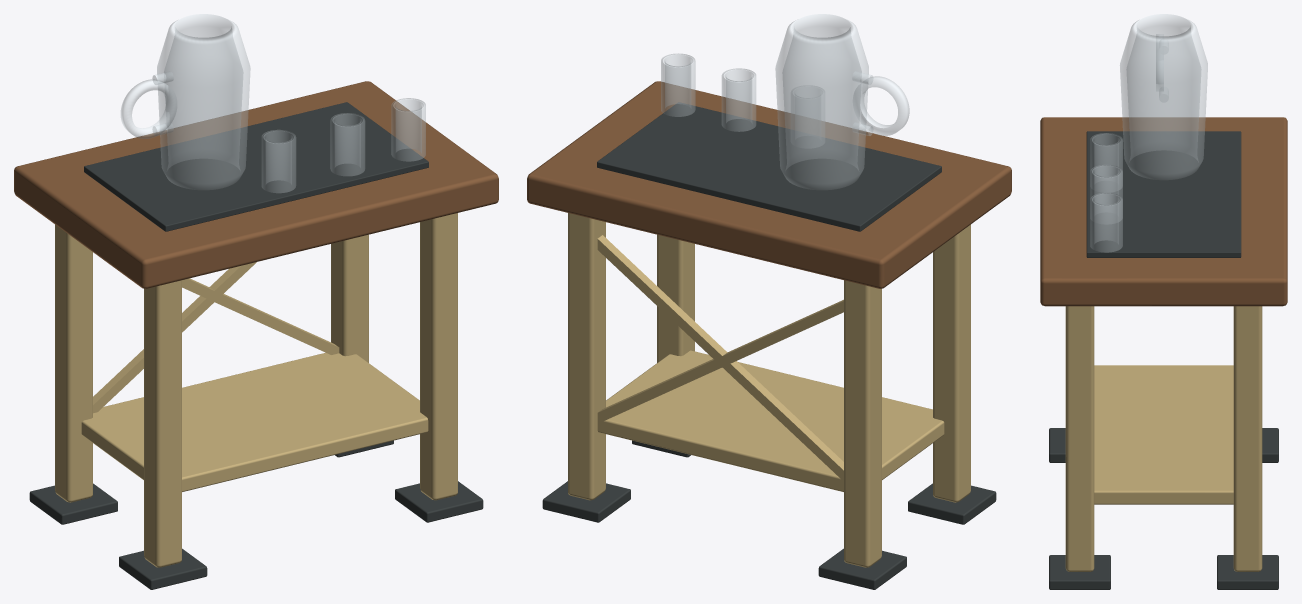
File: tribunal_agua.glb
3 views of the same model, side by side, from view 1: azimuth 30°, elevation 25°; view 2: azimuth 150°, elevation 25°; view 3: azimuth 270°, elevation 25° (orthographic). The views are drawn at different scales.
Parts seen in each view (by area): view 1: city-courthouse-and-records-office-water-service-stand; view 2: city-courthouse-and-records-office-water-service-stand; view 3: city-courthouse-and-records-office-water-service-stand.
Boxes of the visible parts, x1,y1,x2,y2 form: city-courthouse-and-records-office-water-service-stand: [14, 14, 498, 589]; city-courthouse-and-records-office-water-service-stand: [527, 14, 1011, 589]; city-courthouse-and-records-office-water-service-stand: [1040, 14, 1287, 589].
Bounding box in the file's own units: 0.88 × 1.16 × 0.56.
